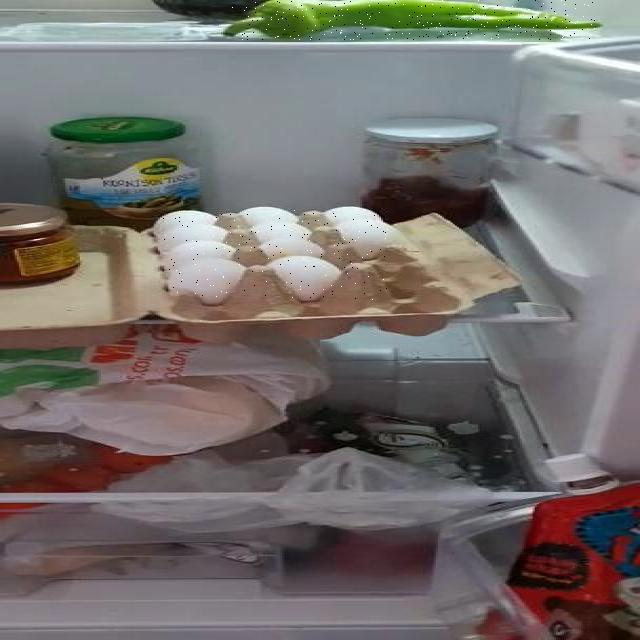eggs: (162, 209, 393, 300)
green chilies: (232, 0, 595, 40)
